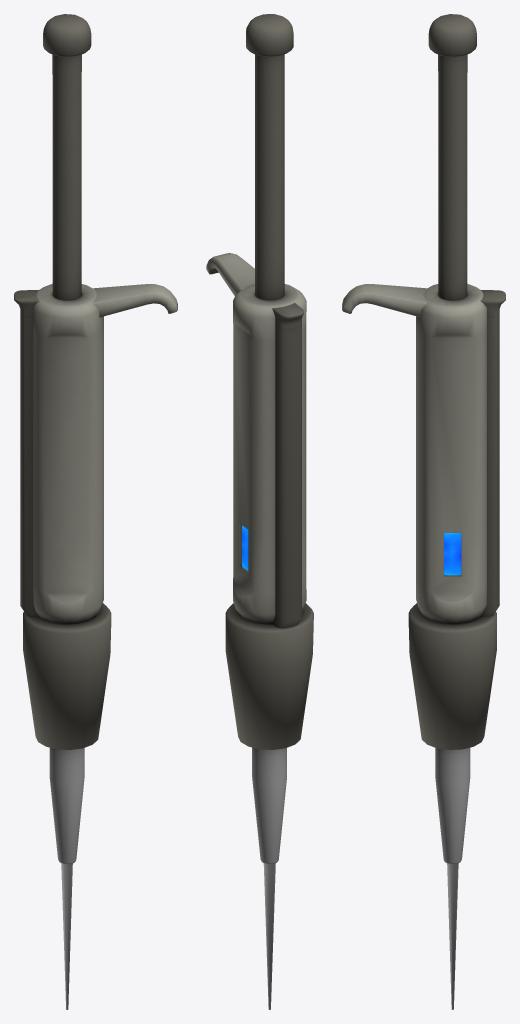
Rendered from pipette.glb.
3 views of the same model, side by side, from view 1: azimuth 90°, elevation 25°; view 2: azimuth 210°, elevation 25°; view 3: azimuth 270°, elevation 25° (orthographic).
Visible parts, largest first — view 1: Pipette, P_Plunger; view 2: Pipette, P_Plunger; view 3: Pipette, P_Plunger.
Part boxes in pixels (x1,y1,x2,y2): Pipette: [14, 283, 177, 1009]; P_Plunger: [43, 14, 91, 300]; Pipette: [206, 253, 313, 1009]; P_Plunger: [246, 14, 293, 300]; Pipette: [342, 283, 505, 1009]; P_Plunger: [428, 14, 476, 300].
Bounding box in the file's own units: 0.0328 × 0.4031 × 0.0605.
Materials: 1 (1 with a texture image).
